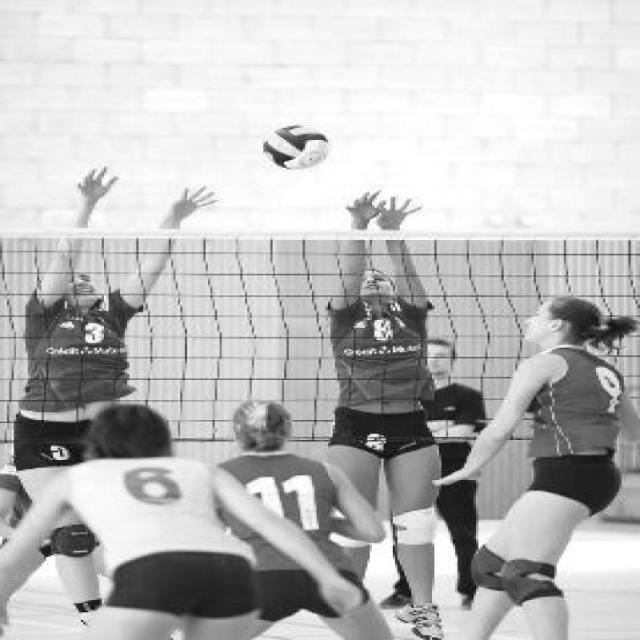volleyball: (264, 122, 330, 168)
